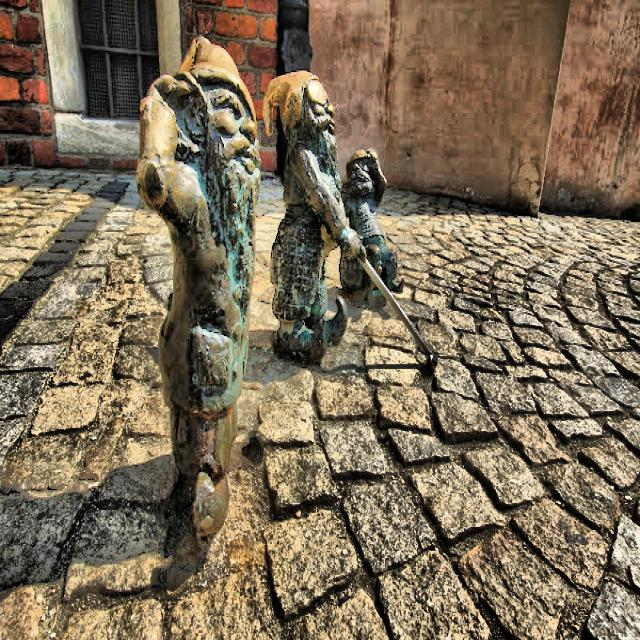Gluchak: (138, 38, 260, 536)
Slepak: (263, 71, 438, 370)
W-Skers: (342, 150, 405, 294), (340, 259, 388, 309)
